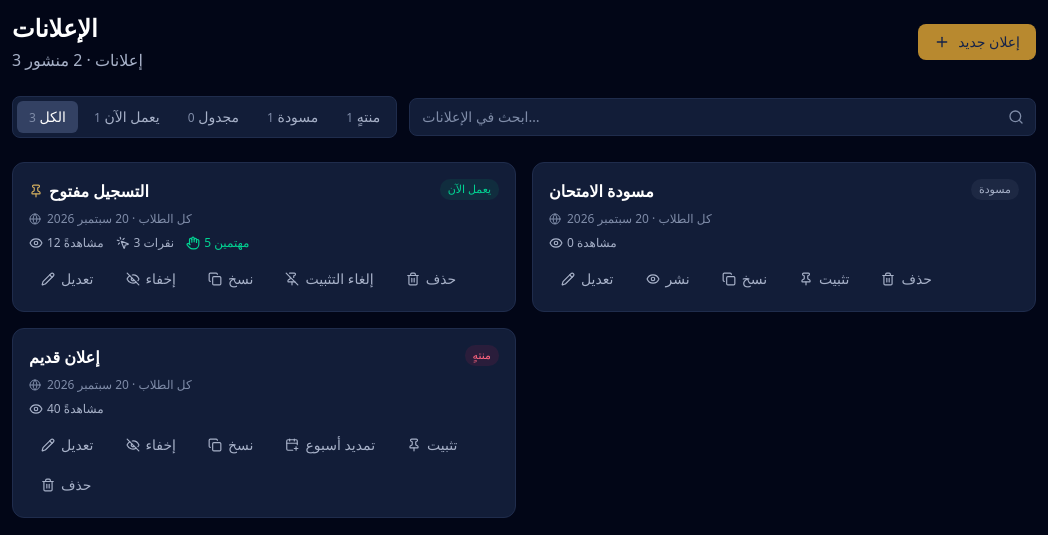
Test: announcements manager › filters by status and searches
This screenshot has width=1048, height=535.
Click the tab "مسودة 1" at (293, 117), box x1=255 y1=101 x2=330 y2=133
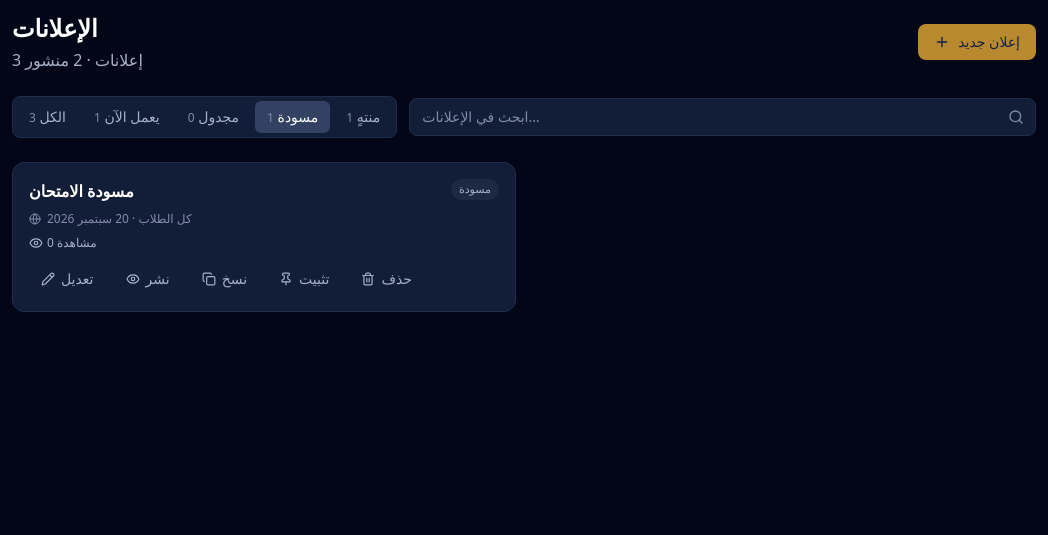
expect the text "مسودة الامتحان" is shown: met, box x1=29 y1=179 x2=134 y2=203
expect the text "التسجيل مفتوح" is gone: met
Click the tab "الكل 3" at (48, 117), box x1=17 y1=101 x2=78 y2=133
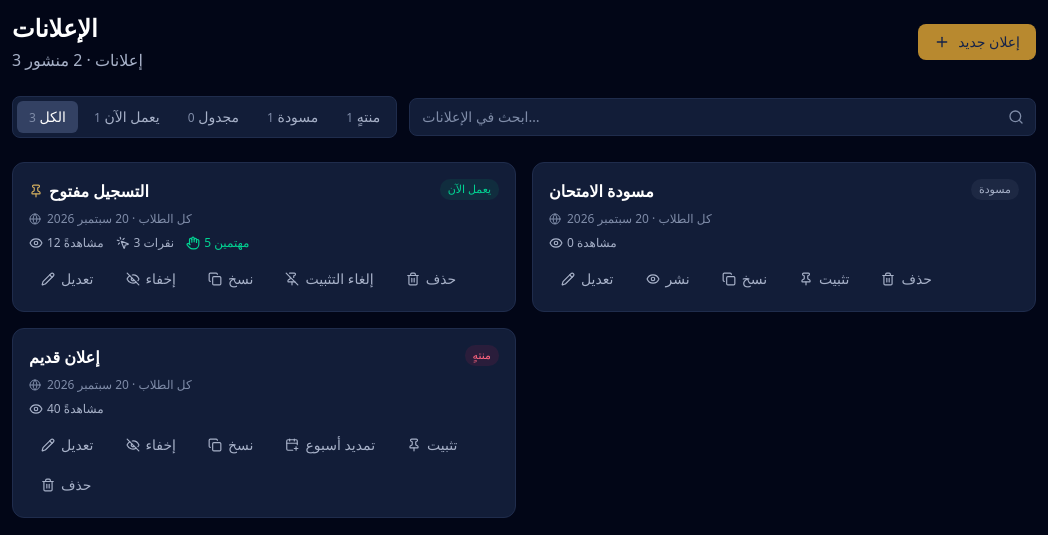
Type "قديم" into the field with placeholder "ابحث في الإعلانات…" at (723, 117), box x1=409 y1=98 x2=1036 y2=136
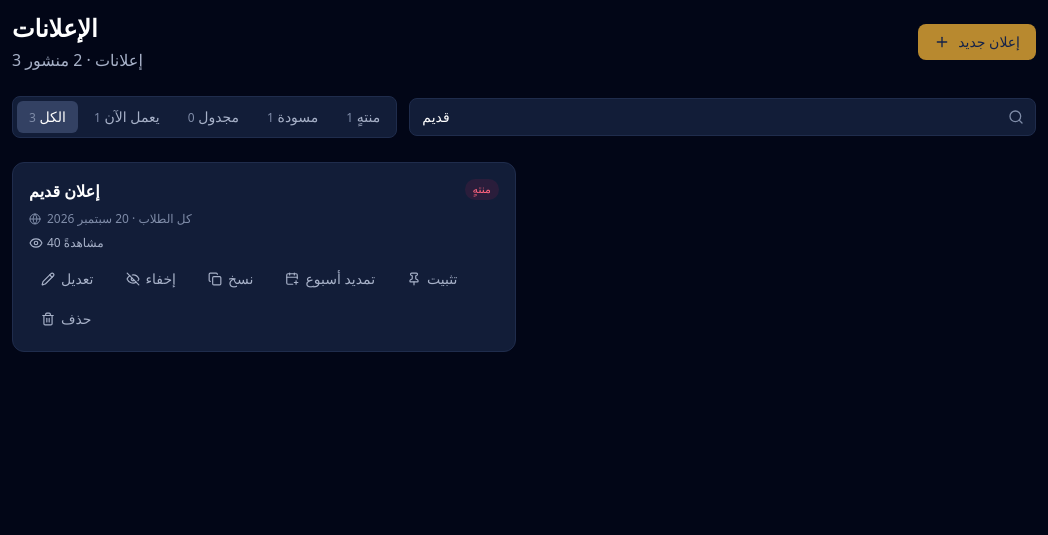
expect the text "إعلان قديم" is shown: met, box x1=29 y1=179 x2=100 y2=203
expect the text "مسودة الامتحان" is gone: met
